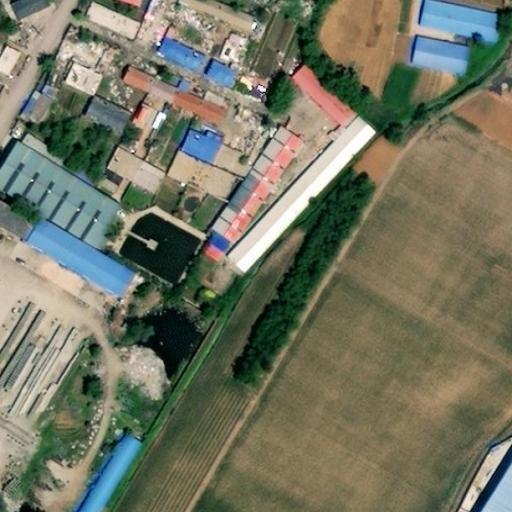building: (229, 130, 379, 290), (29, 235, 137, 316), (170, 143, 255, 216), (126, 84, 231, 141), (289, 76, 360, 143), (90, 443, 150, 512), (422, 11, 506, 58), (164, 0, 259, 41), (246, 5, 297, 78), (93, 160, 146, 221), (468, 442, 512, 512), (413, 49, 474, 90), (85, 105, 135, 148), (4, 4, 55, 41), (158, 48, 208, 84), (89, 19, 138, 49), (67, 77, 105, 113), (99, 0, 148, 27), (21, 103, 55, 138), (143, 70, 180, 101), (116, 58, 152, 89), (135, 176, 166, 206), (0, 60, 24, 93), (211, 72, 240, 98), (480, 0, 512, 8)
